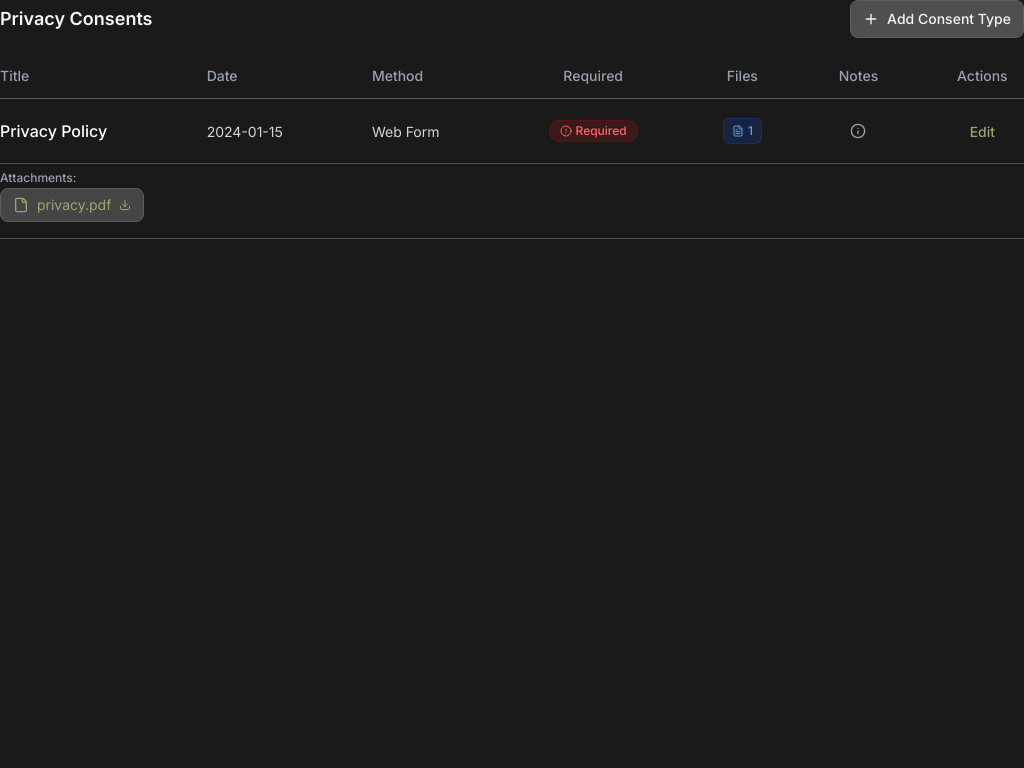
Test: UserConsents › opens add consent dialog when button clicked
The width and height of the screenshot is (1024, 768).
Click the button "Add Consent Type".
click(937, 19)  # box [850,0,1023,38]
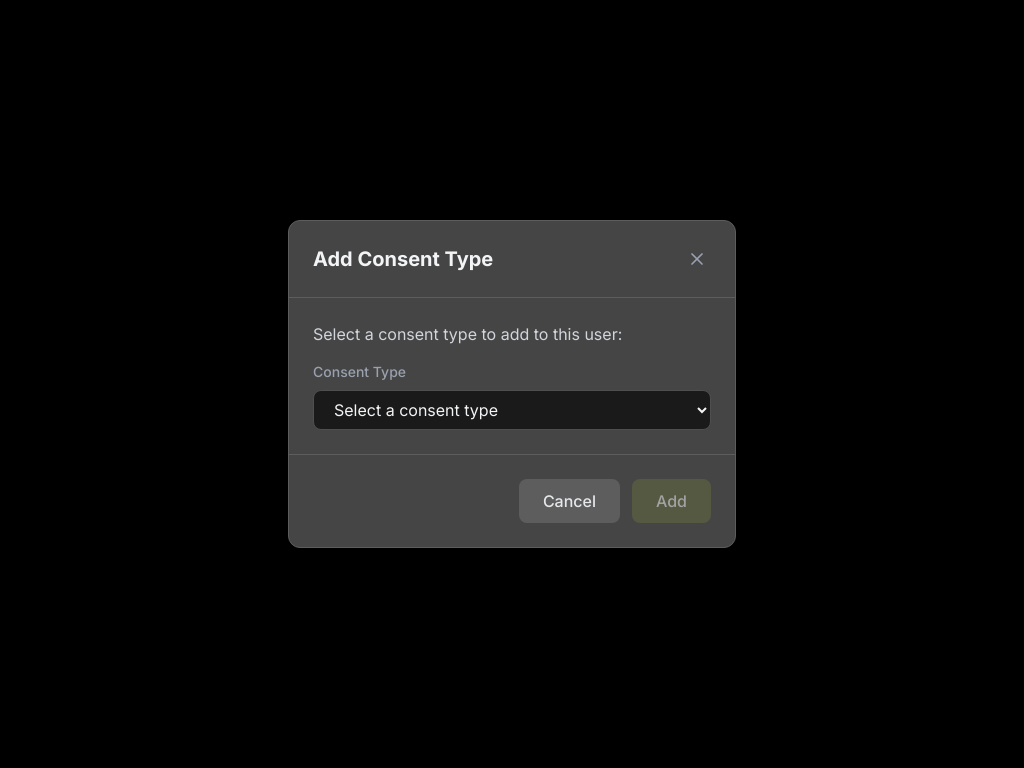
Check: the text "Select a consent type to add to this user:" is shown, box [313,324,622,344]
